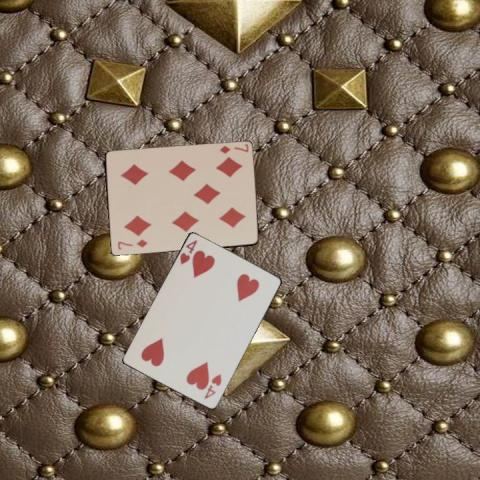4h: (200, 371, 222, 401), (177, 237, 199, 266)
7d: (115, 237, 148, 251), (217, 142, 250, 156)
